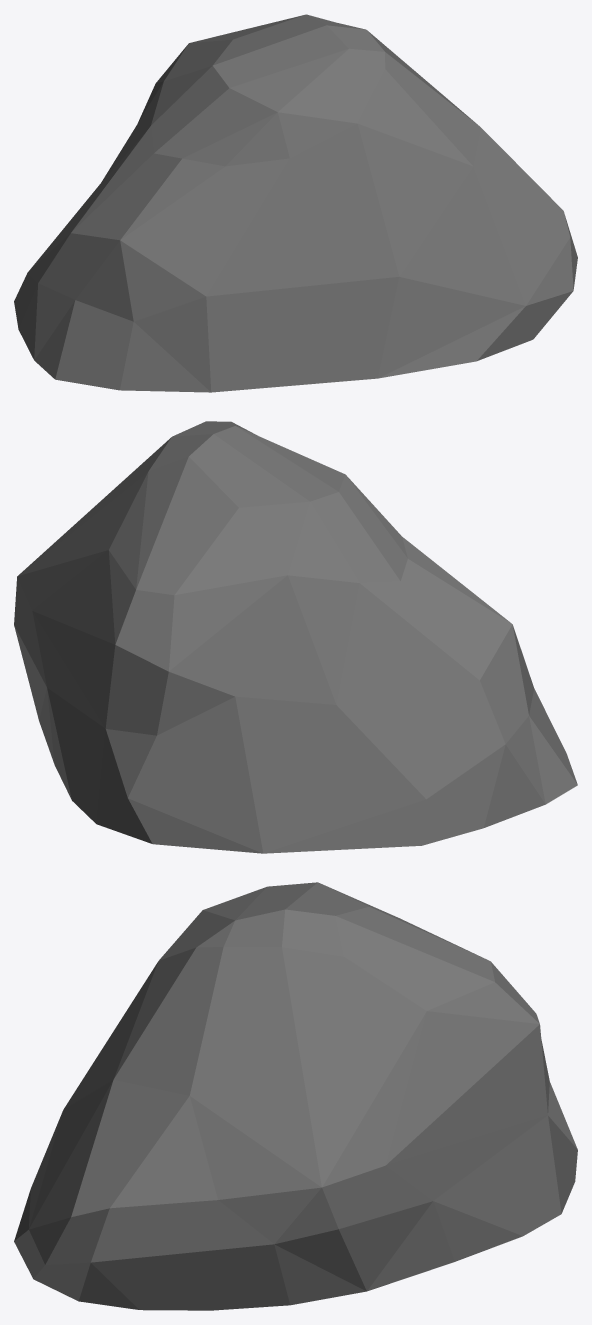
The model's file is rock7.fbx.
3 renders of one model, top to bottom at view 1: azimuth 30°, elevation 25°; view 2: azimuth 150°, elevation 25°; view 3: azimuth 270°, elevation 25°, orthographic. The views are drawn at different scales.
Visible parts, largest first — view 1: large_rock2_LOD0; view 2: large_rock2_LOD0; view 3: large_rock2_LOD0.
Boxes of the visible parts, x1,y1,x2,y2 form: large_rock2_LOD0: (14,14,577,392); large_rock2_LOD0: (14,421,577,853); large_rock2_LOD0: (14,882,577,1310).
Size of what is drawn, in the model's own units: 8.9 by 4.81 by 7.8.
